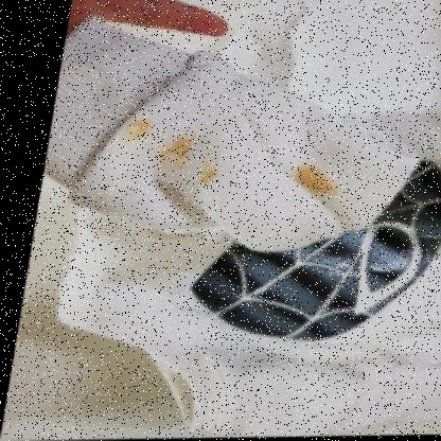kimchi: (292, 163, 338, 195), (125, 112, 161, 149), (164, 135, 200, 166), (202, 169, 216, 184)
